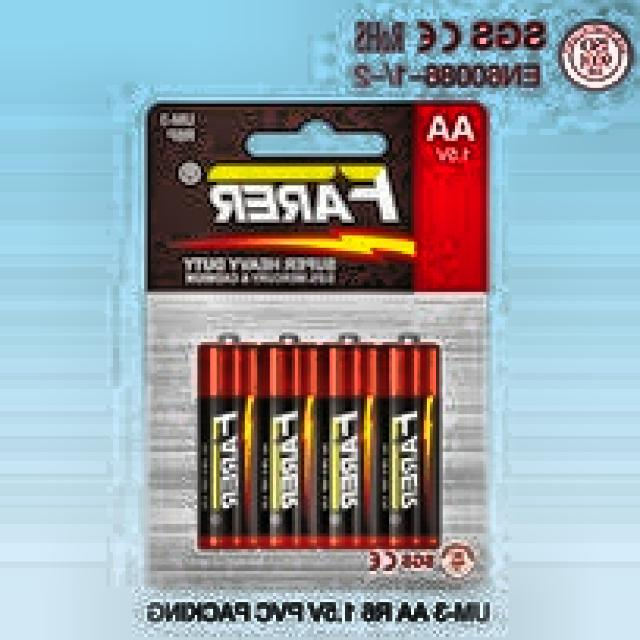Non-Valuable Waste - Batteries: (203, 344, 439, 548)
